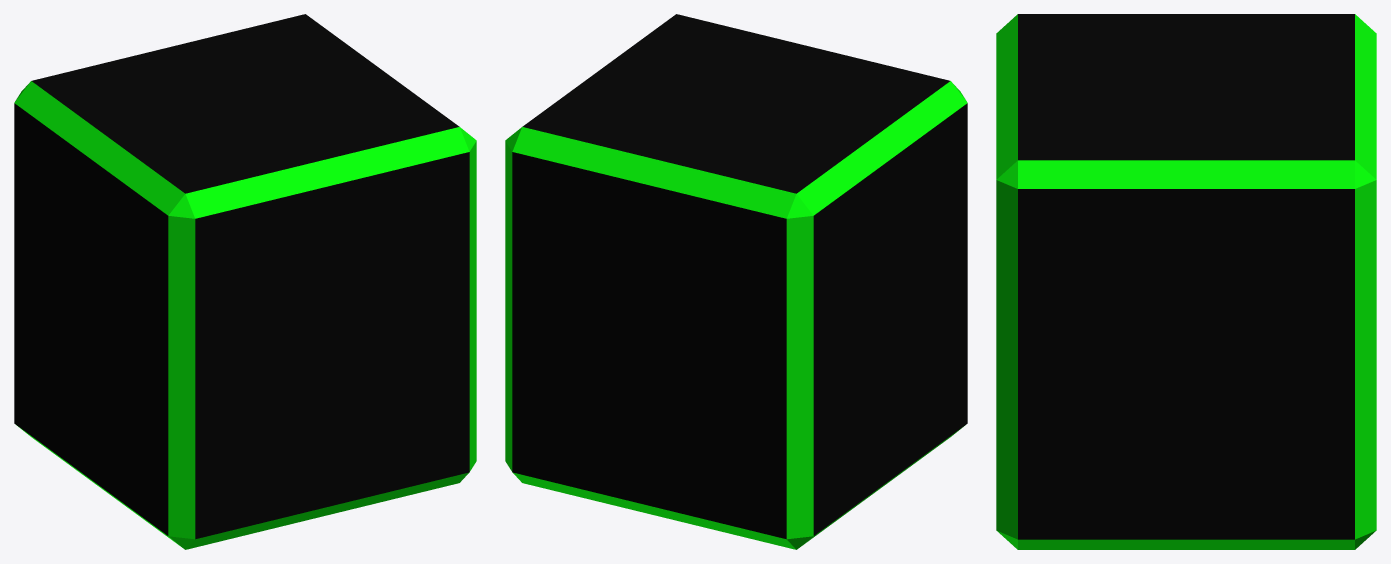
File: green_cube.glb
3 renders of one model, left to right at view 1: azimuth 30°, elevation 25°; view 2: azimuth 150°, elevation 25°; view 3: azimuth 270°, elevation 25°, orthographic. The views are drawn at different scales.
Visible parts, largest first — view 1: Cubo; view 2: Cubo; view 3: Cubo.
Boxes of the visible parts, x1,y1,x2,y2 form: Cubo: (14,14,476,549); Cubo: (505,14,967,549); Cubo: (996,14,1376,549).
Bounding box in the file's own units: 1.99 × 2.19 × 1.94.
Materials: 1 (1 with a texture image).
